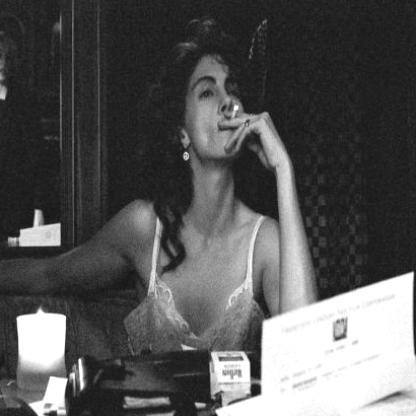cigarette: (231, 100, 240, 121)
person: (113, 34, 290, 356)
